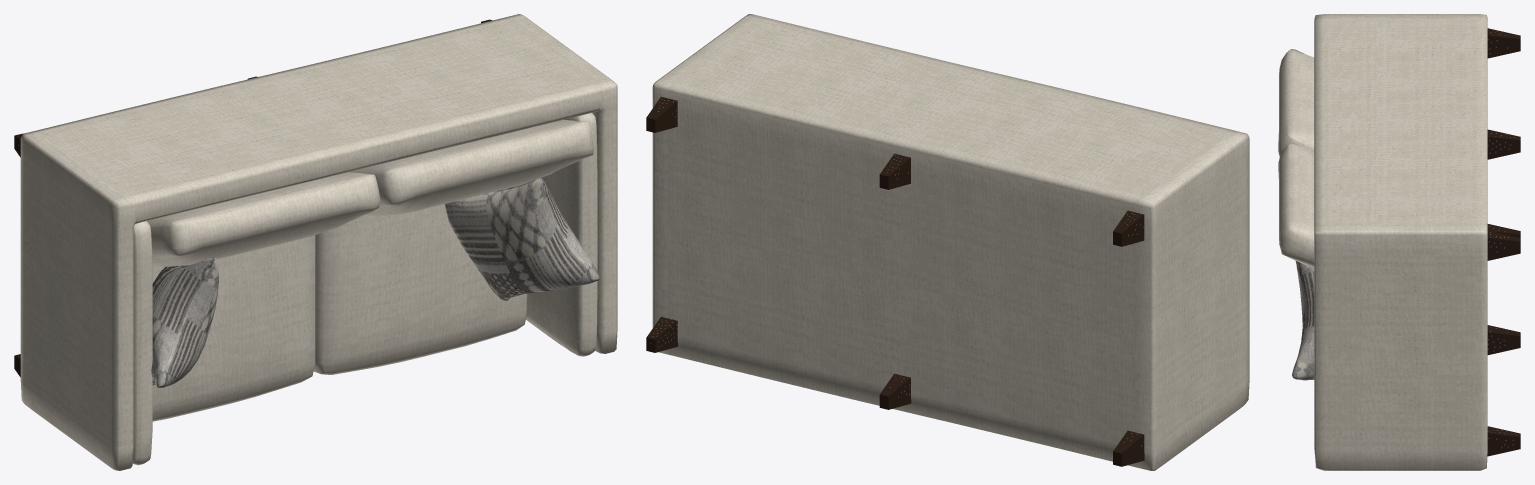
The model's file is csfa1708091.glb.
The picture shows the model from 3 angles, left to right: view 1: azimuth 30°, elevation 25°; view 2: azimuth 150°, elevation 25°; view 3: azimuth 270°, elevation 25°; orthographic projection. The views are drawn at different scales.
Parts seen in each view (by area): view 1: defaultMaterial; view 2: defaultMaterial; view 3: defaultMaterial.
Boxes of the visible parts, box(x1,y1,x2,y2) form: defaultMaterial: box(14, 14, 617, 470); defaultMaterial: box(646, 14, 1249, 470); defaultMaterial: box(1278, 14, 1520, 470).
Bounding box in the file's own units: 1.7 × 0.9 × 0.8.
1 material, 1 textured.
